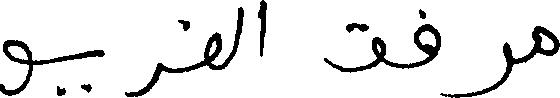X: (445, 37, 510, 97), (326, 18, 385, 77), (0, 35, 31, 97), (415, 4, 439, 71), (128, 58, 160, 97), (534, 21, 559, 60), (204, 27, 219, 74), (231, 2, 242, 64), (261, 0, 264, 61), (95, 45, 102, 61)
